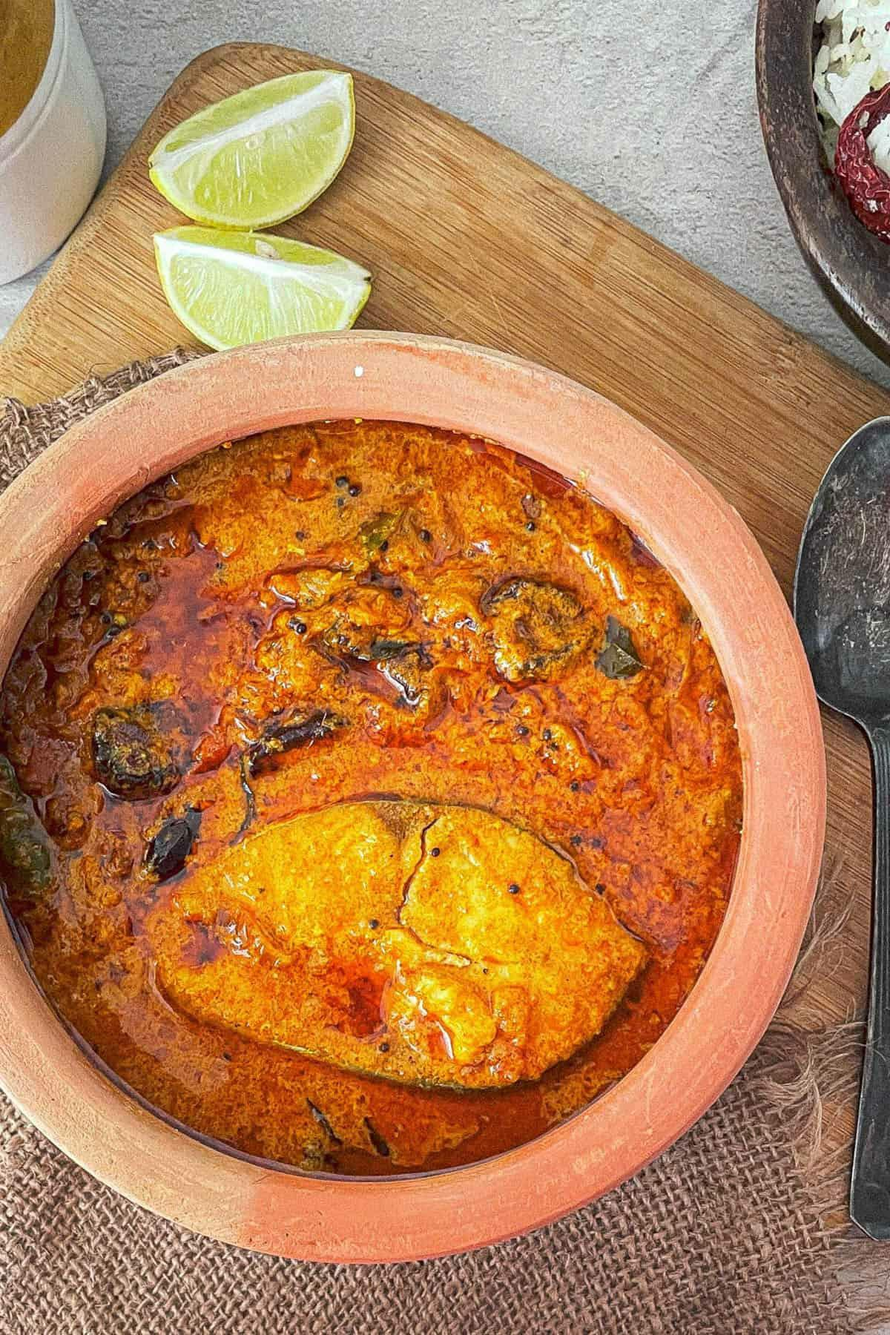FishCurry: (0, 425, 725, 1183)
